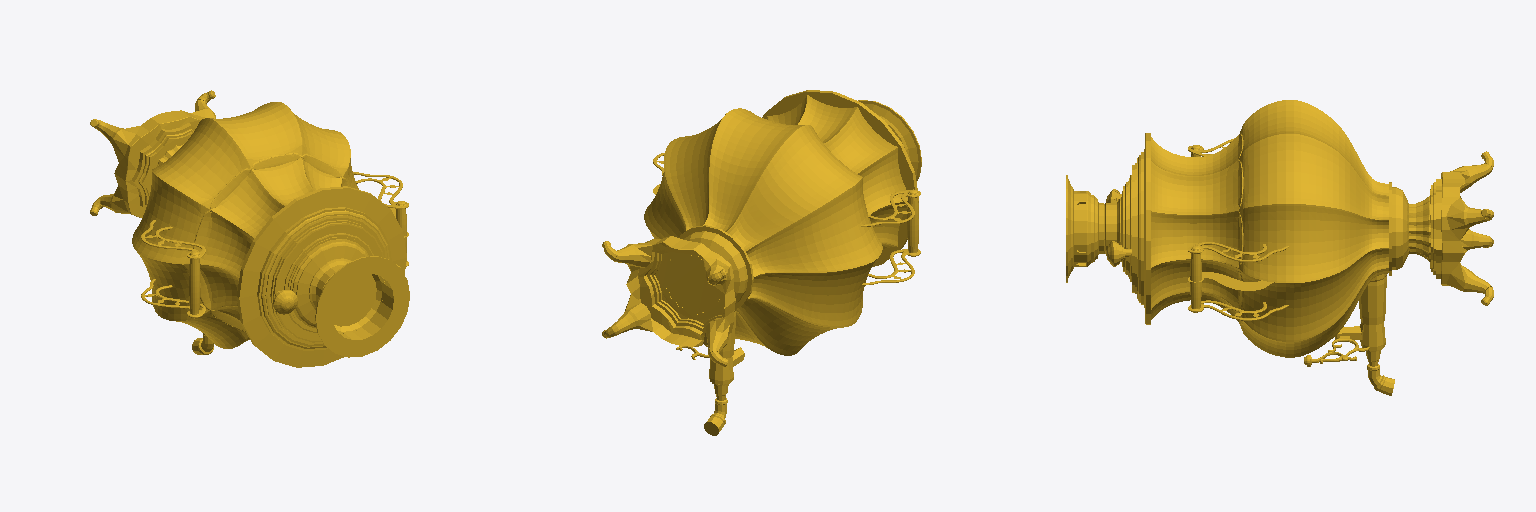
File: samowar.obj
3 views of the same model, side by side, from view 1: azimuth 30°, elevation 25°; view 2: azimuth 150°, elevation 25°; view 3: azimuth 270°, elevation 25° (orthographic).
Visible parts, largest first — view 1: Box01; view 2: Box01; view 3: Box01.
Boxes of the visible parts, x1=… form: Box01: x1=90, y1=90, x2=409, y2=367; Box01: x1=602, y1=90, x2=921, y2=435; Box01: x1=1066, y1=100, x2=1493, y2=395.
Size of the model in its own units: 471 by 491 by 684.